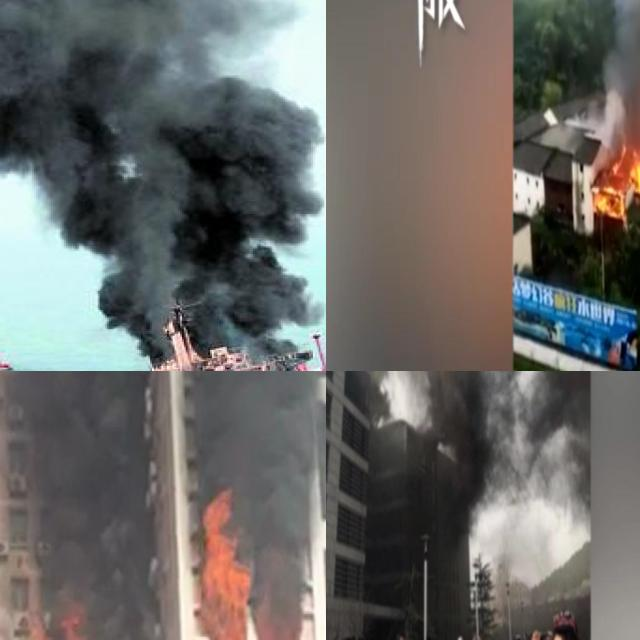fire: (196, 487, 250, 640), (594, 143, 640, 214), (256, 609, 301, 640)
smoke: (0, 0, 325, 364), (0, 371, 156, 637), (341, 371, 589, 536), (195, 371, 324, 592)
